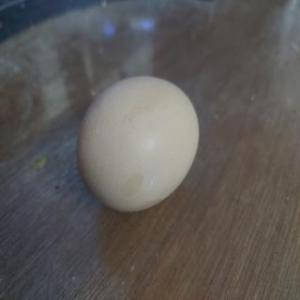egg: (74, 72, 200, 215)
